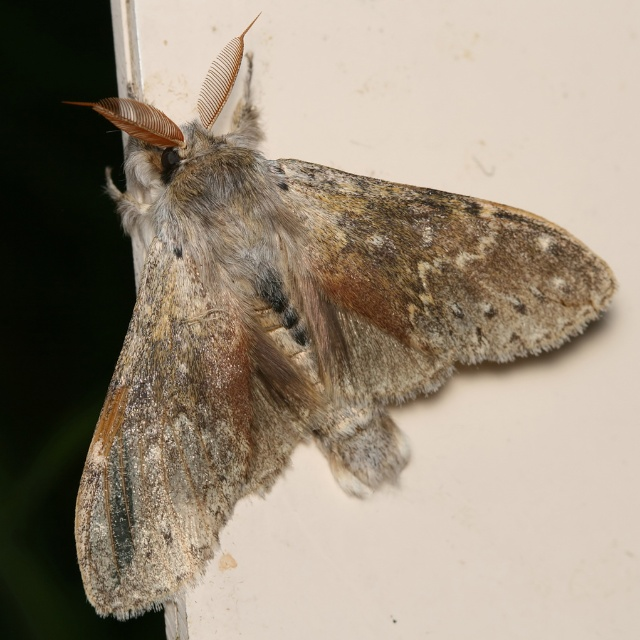Moths and butterflies: (59, 10, 616, 621)
